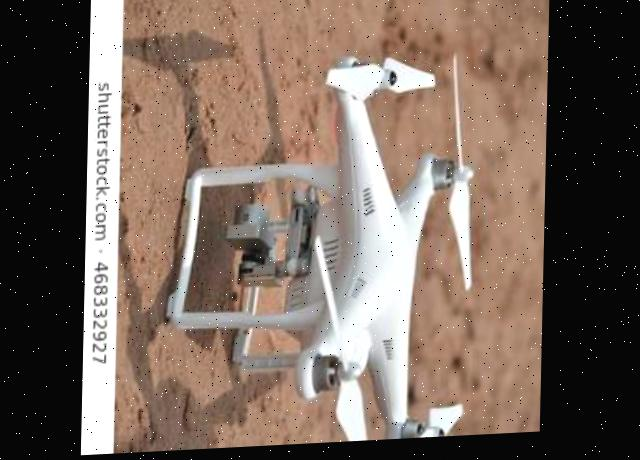drone: (181, 32, 495, 452)
